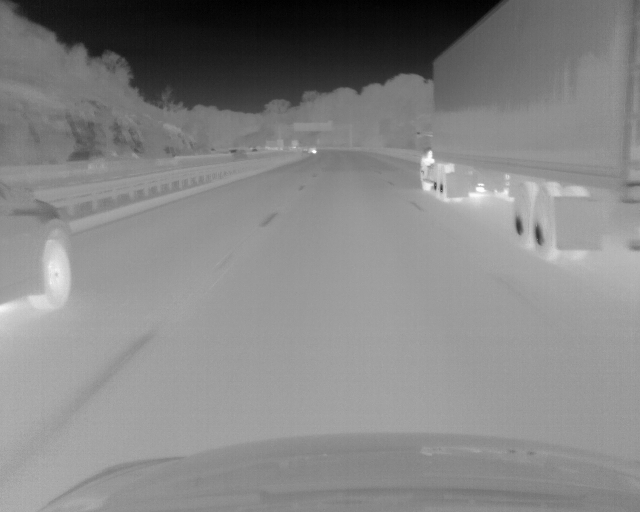car: (417, 1, 640, 261), (1, 180, 75, 313)
